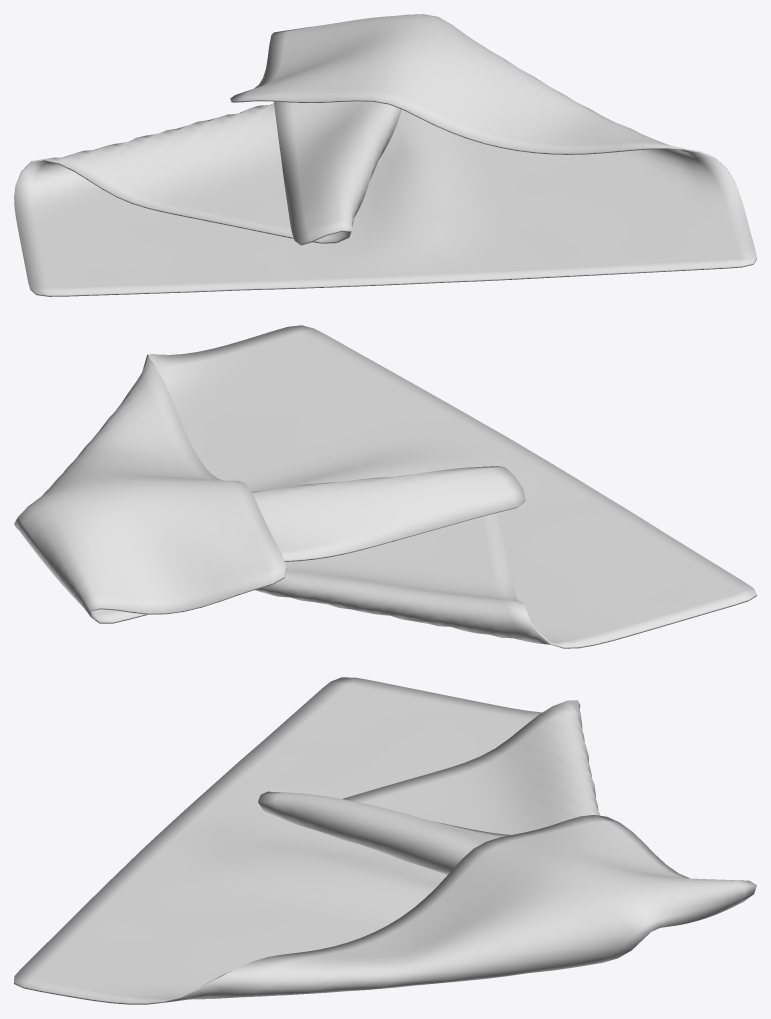
The model's file is Kaintidur.fbx.
3 renders of one model, top to bottom at view 1: azimuth 30°, elevation 25°; view 2: azimuth 150°, elevation 25°; view 3: azimuth 270°, elevation 25°, orthographic. The views are drawn at different scales.
Visible parts, largest first — view 1: KainTidur_LOD0; view 2: KainTidur_LOD0; view 3: KainTidur_LOD0.
Boxes of the visible parts, bbox=[...] form: KainTidur_LOD0: bbox=[14, 14, 756, 296]; KainTidur_LOD0: bbox=[14, 325, 756, 648]; KainTidur_LOD0: bbox=[14, 677, 756, 1004].
Size of what is drawn, in the model's own units: 316 by 29.27 by 295.
